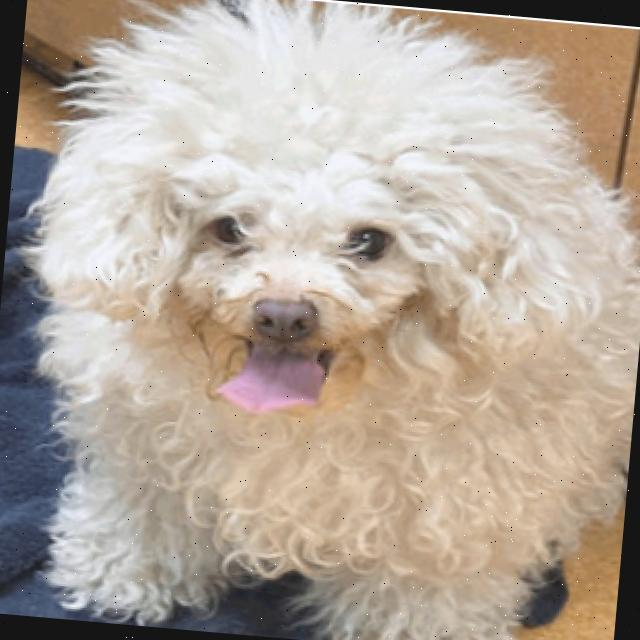Poodle_dog: (52, 36, 559, 461)
